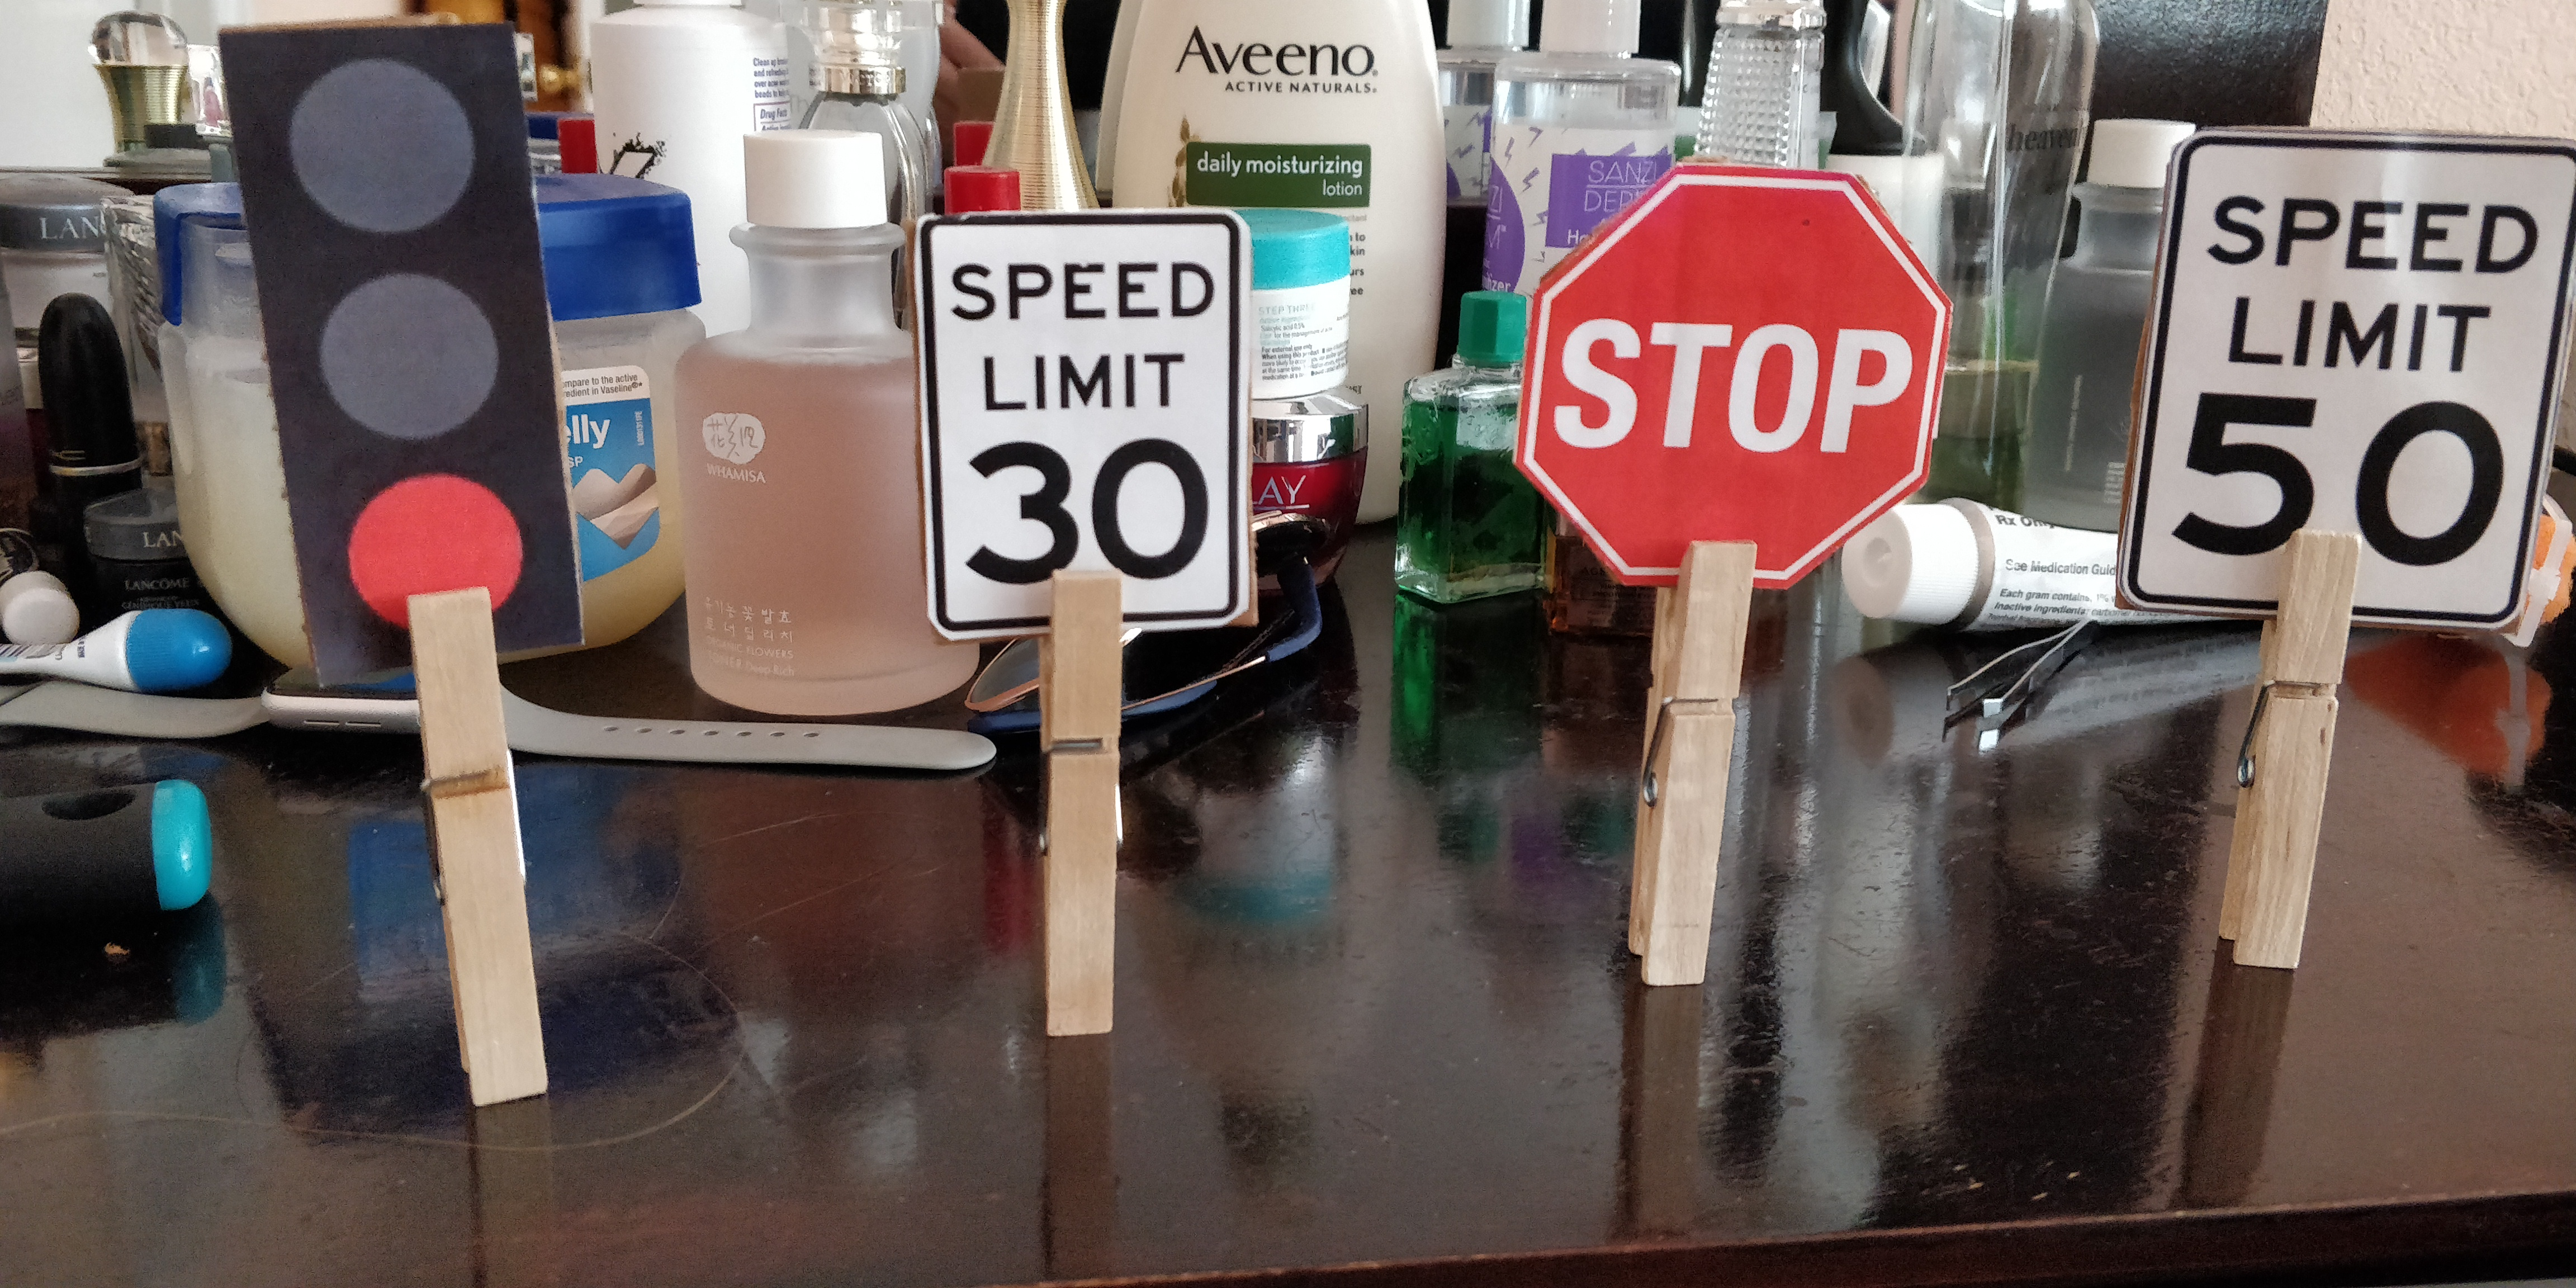Speed Limit 30: (915, 207, 1262, 642)
Speed Limit 50: (2109, 125, 2576, 634)
Stop Sign: (1510, 159, 1957, 591)
red light: (212, 23, 583, 687)
